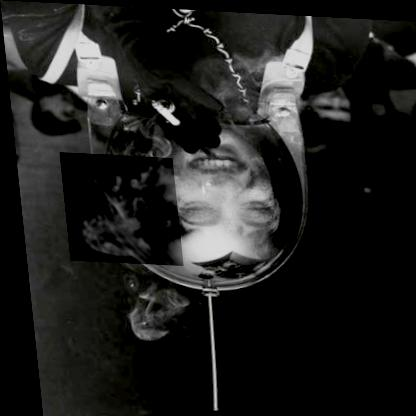smoke: (56, 151, 178, 264)
